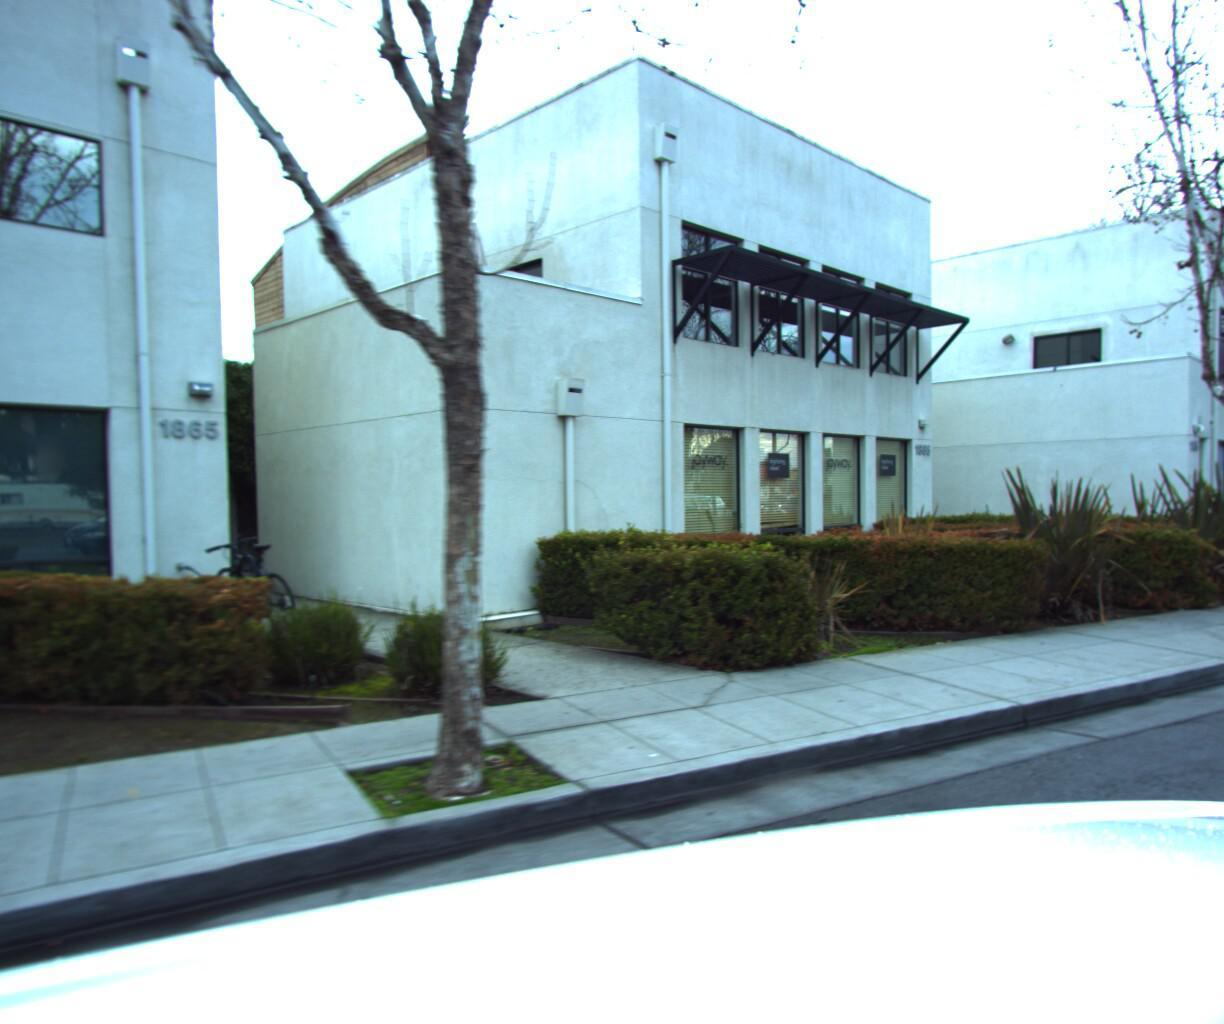bicycle: (172, 519, 324, 636)
